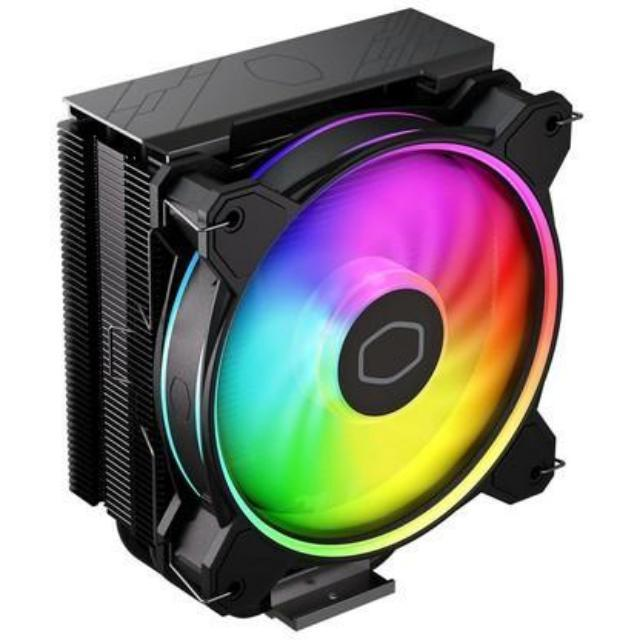CPU_Fan: (52, 10, 577, 635)
